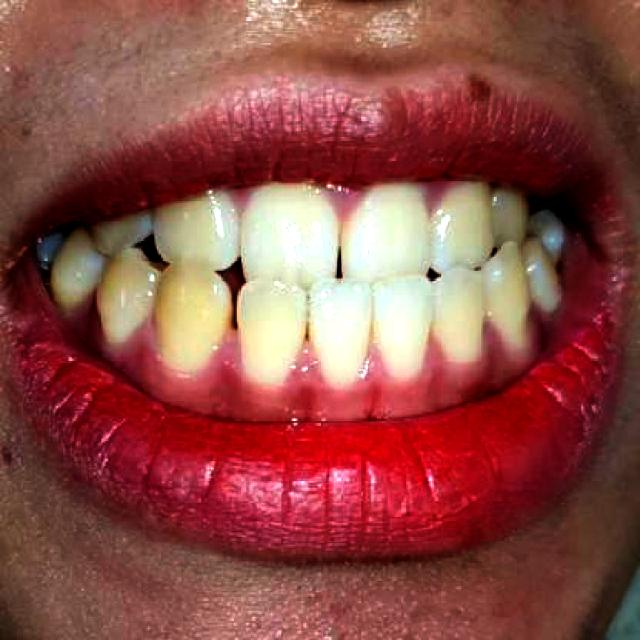Plaque: (204, 330, 248, 380), (284, 340, 328, 386), (126, 311, 160, 362), (324, 187, 369, 225), (419, 334, 454, 376), (360, 340, 393, 383), (418, 182, 455, 216), (476, 320, 508, 357), (532, 302, 553, 345), (229, 190, 255, 217)
